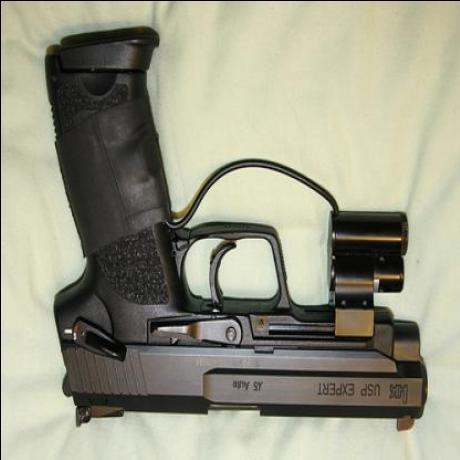weapon: (32, 19, 432, 449)
